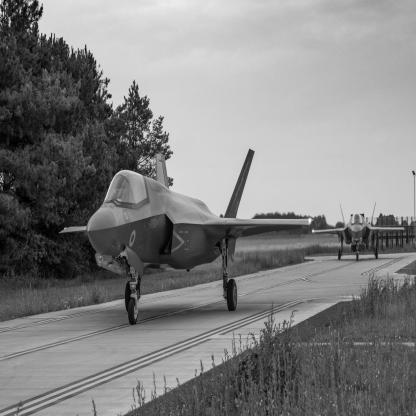F35: (60, 149, 316, 326), (314, 202, 406, 262)
